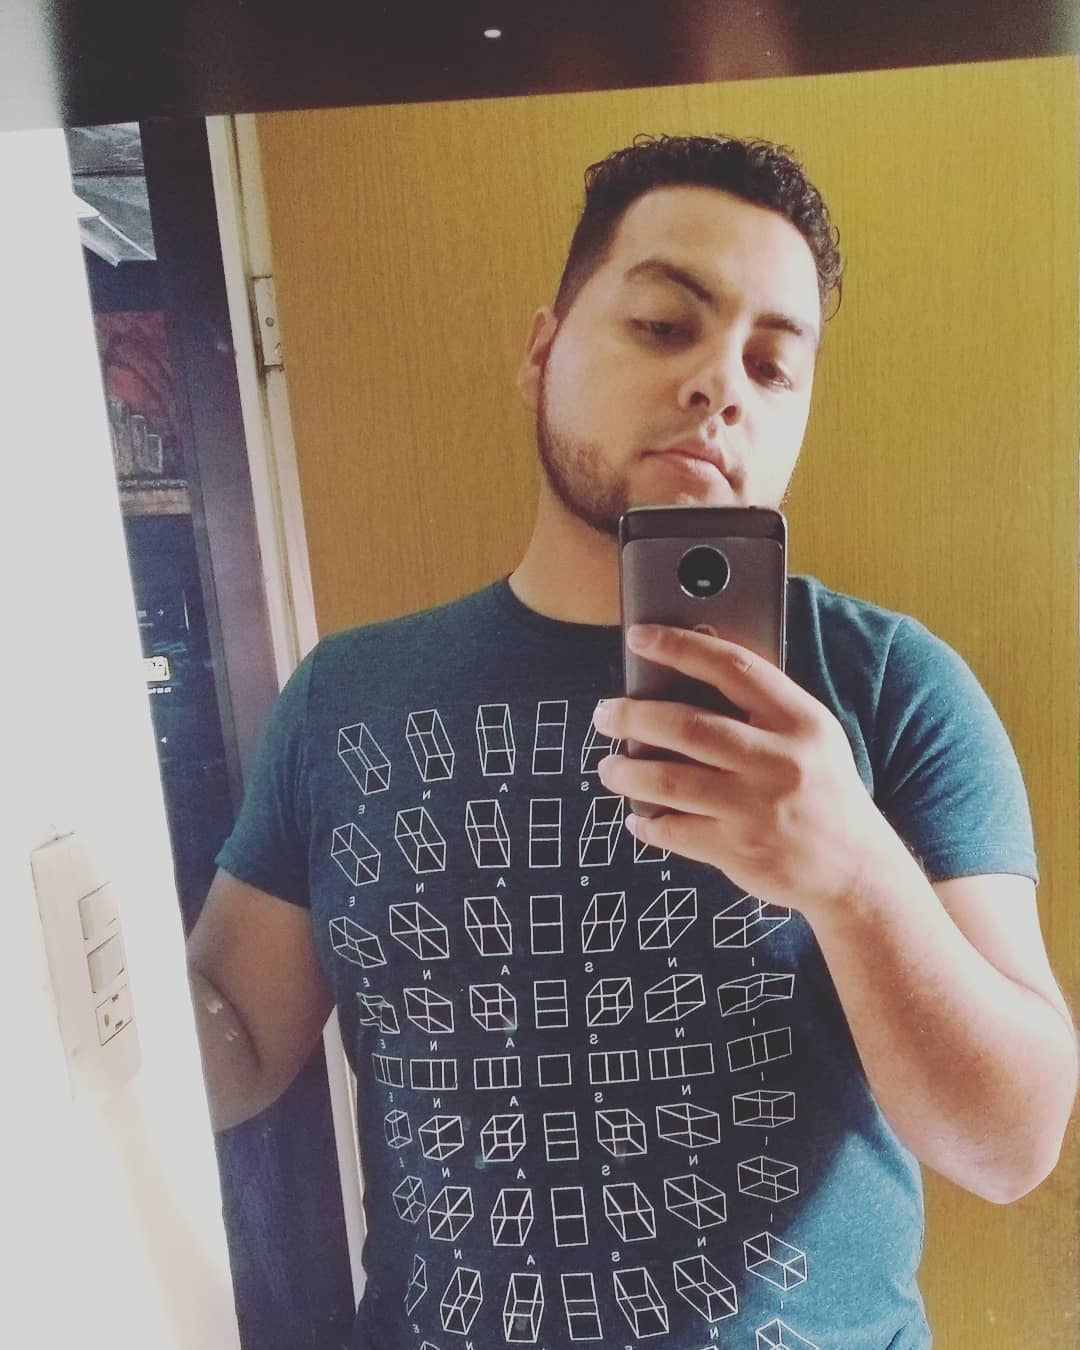Yoshi: (180, 111, 1054, 1214)
